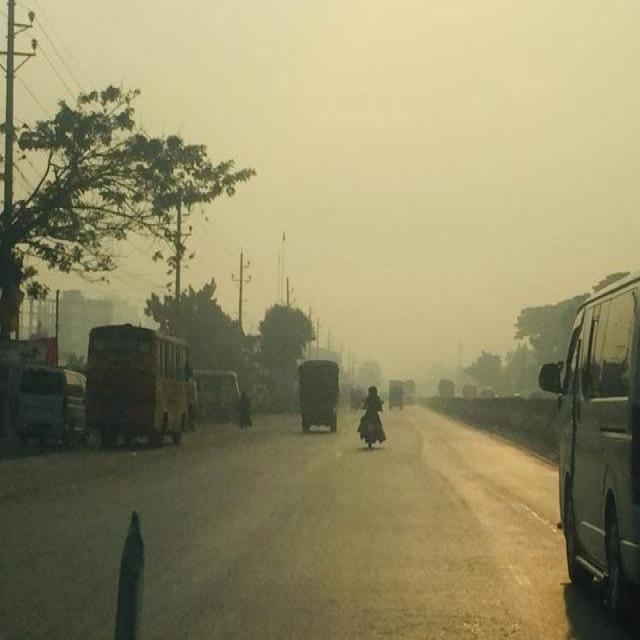bus: (84, 324, 188, 444), (192, 368, 240, 412)
motorbike: (361, 402, 379, 446)
truck: (296, 358, 338, 431), (388, 379, 402, 408), (436, 376, 454, 397)
van: (558, 274, 638, 617), (13, 363, 82, 440)
